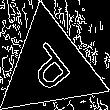P_SE: (21, 36, 79, 99)
